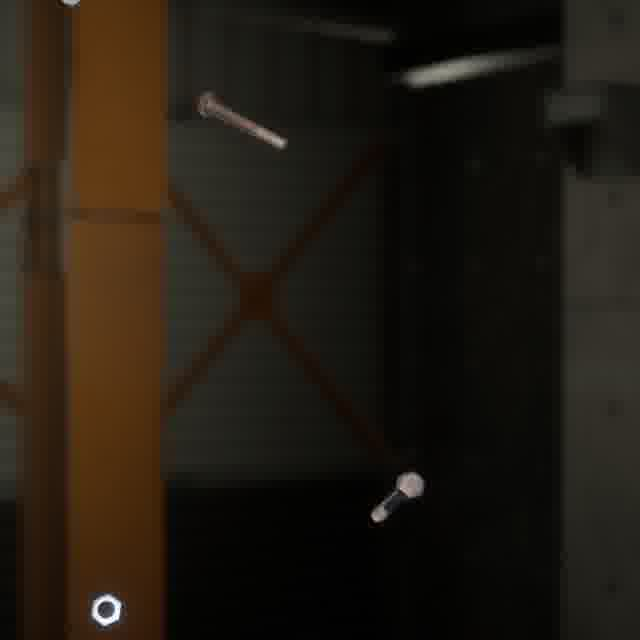bolt: (193, 87, 292, 155), (366, 466, 429, 526)
nut: (86, 588, 127, 632)
